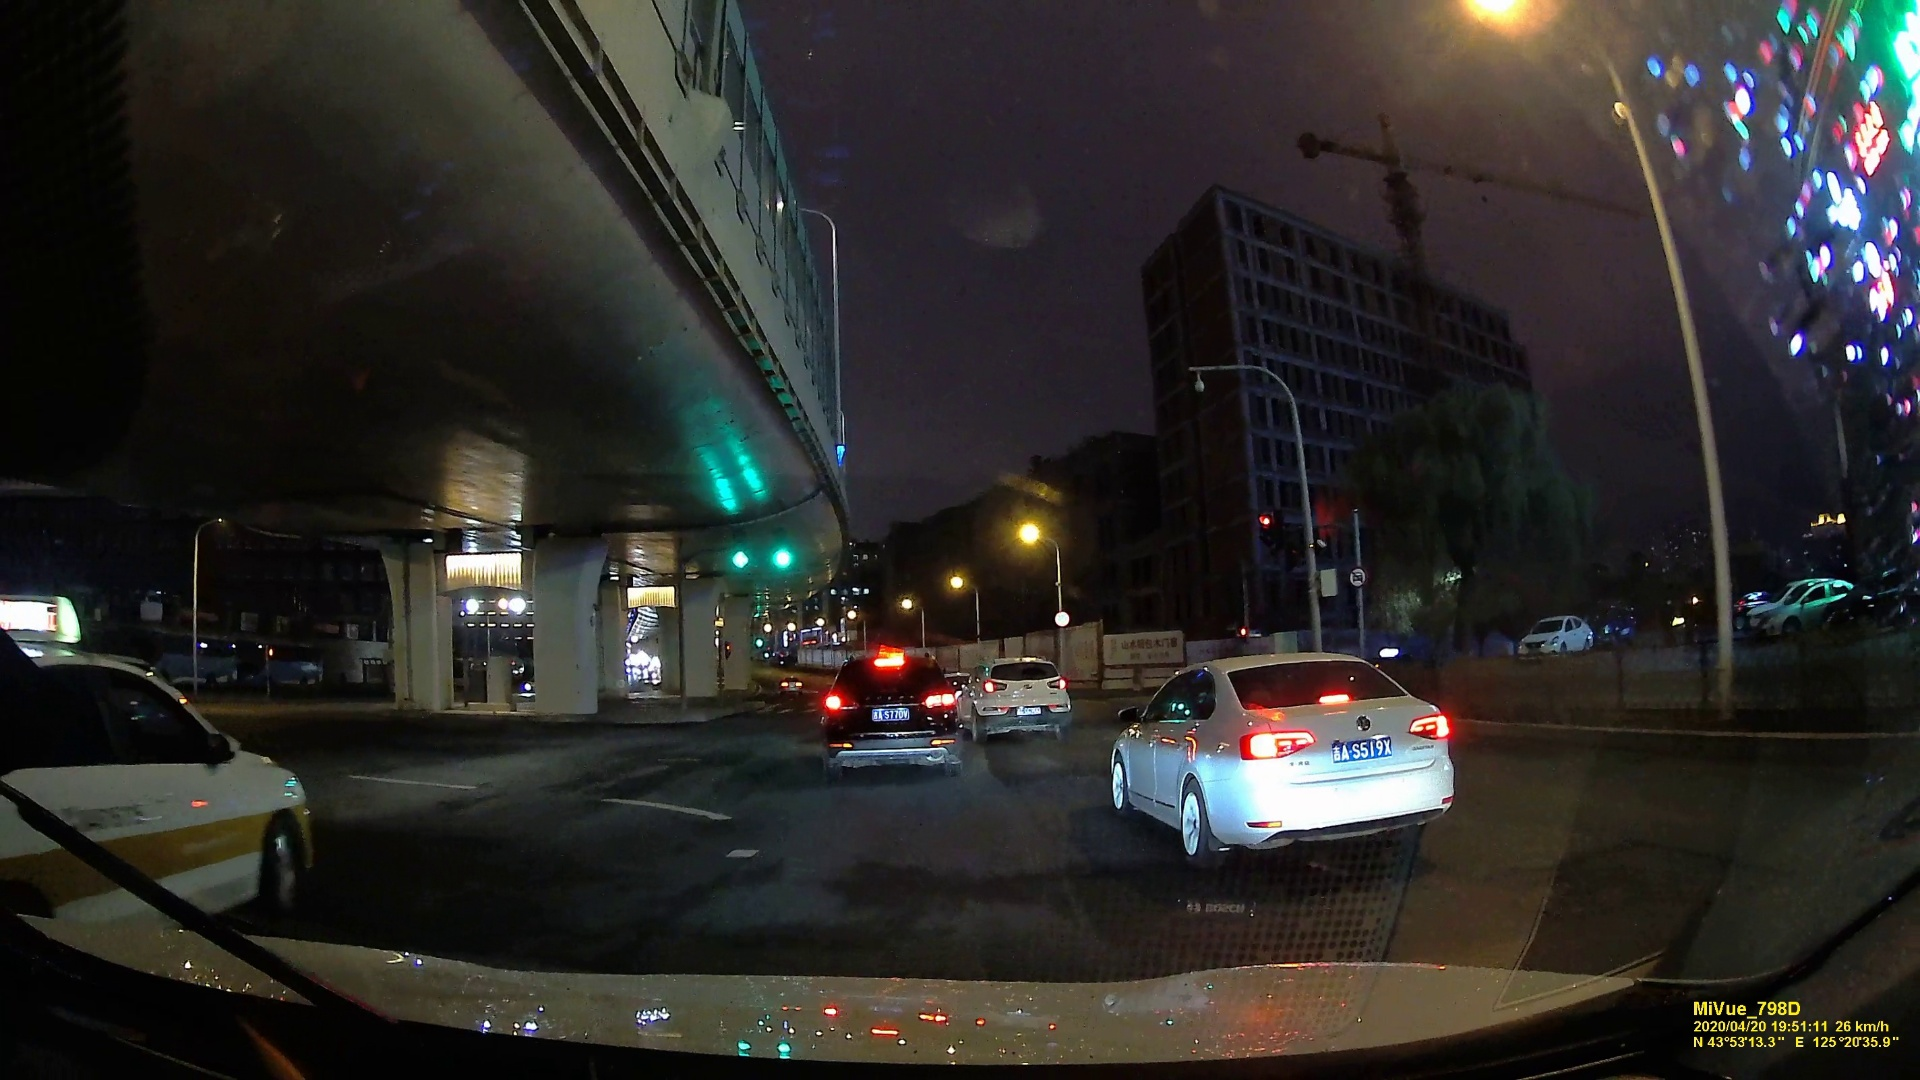traffic_sign: (767, 535, 793, 570), (731, 535, 750, 574), (1346, 568, 1367, 589)
vehicle: (1, 655, 313, 928), (1116, 669, 1451, 858), (818, 642, 953, 779), (961, 655, 1069, 738), (1762, 580, 1869, 630), (1520, 613, 1596, 655), (779, 676, 808, 694)
